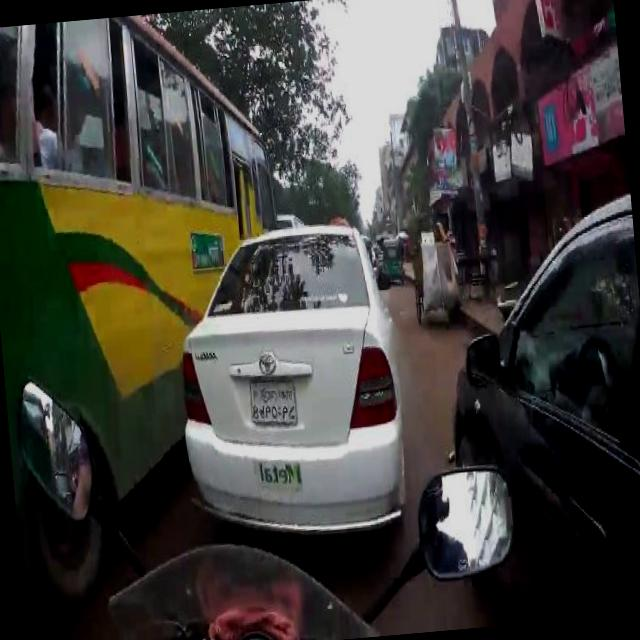bus: (0, 4, 312, 640)
car: (162, 217, 414, 550)
motorcycle: (378, 232, 407, 288)
truck: (406, 228, 468, 336)
